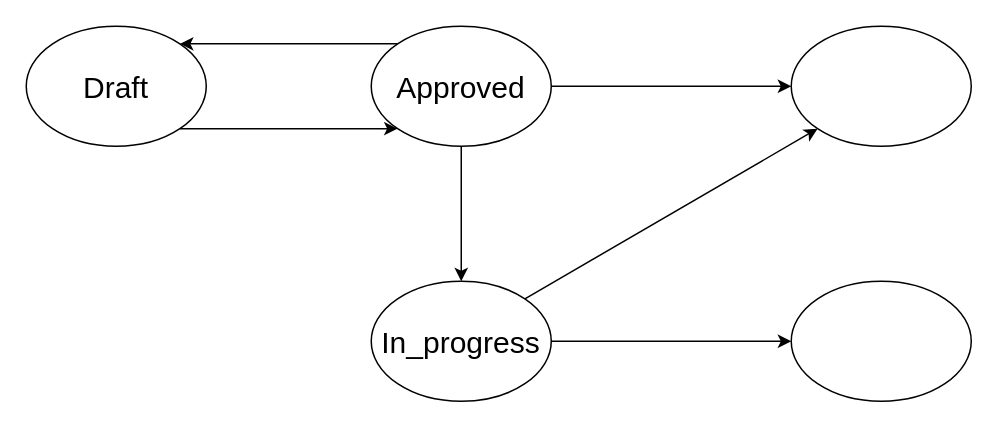
Some shapes in this 998 by 428 pixel diagram are drawn without their labels. Each missing label, with the centre of its shape:
Cancelled: pixel 880 85
Finished: pixel 880 340
